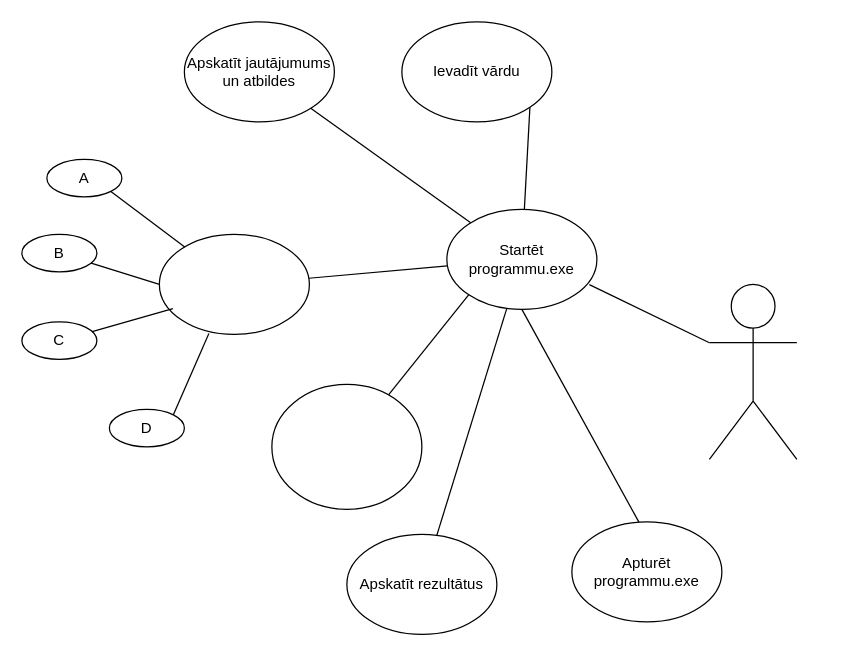
The diagram is 845 pixels wide and 656 high, and some of its shapes have lost their labels. Each missing label, with the centre of its shape:
Apskatīt jautājumus uz kuriem ir atbildēts nepareizi: point (346, 446)
Ievadīt atbildi: point (233, 283)
Windows OS lietotājs: point (752, 371)
